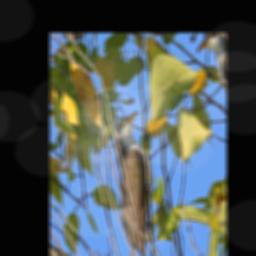Cuckoo: (87, 90, 198, 256)
